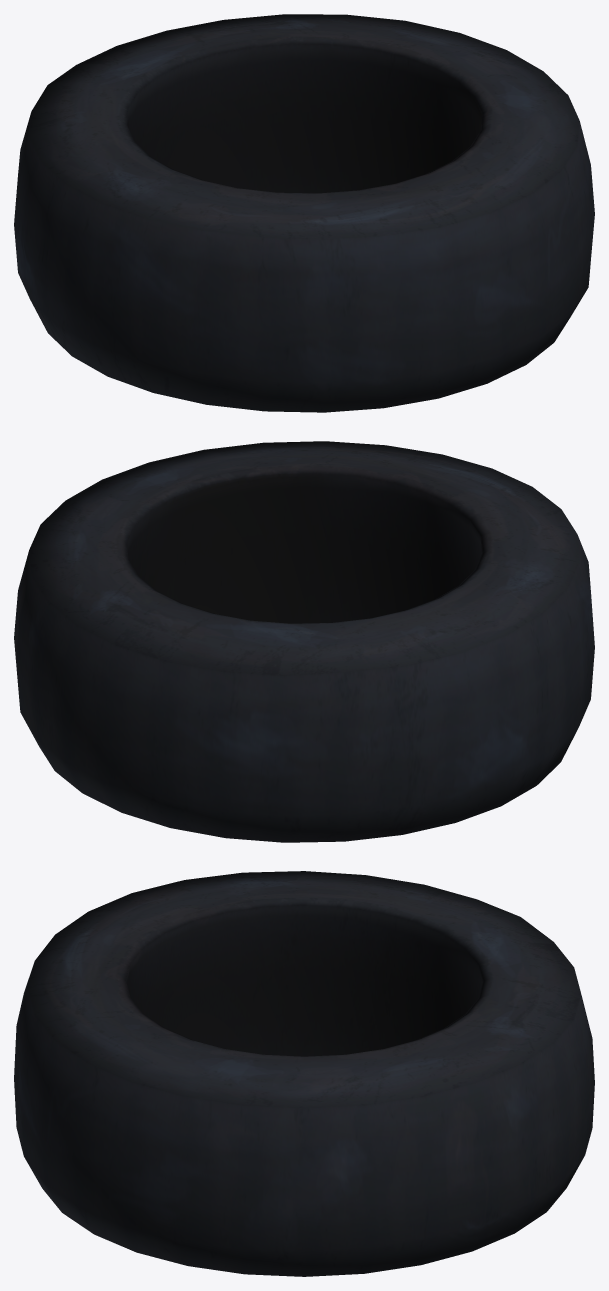
The model's file is tire.fbx.
3 views of the same model, one above another, from view 1: azimuth 30°, elevation 25°; view 2: azimuth 150°, elevation 25°; view 3: azimuth 270°, elevation 25° (orthographic).
Visible parts, largest first — view 1: Neumaticos001_Material #246_0.001; view 2: Neumaticos001_Material #246_0.001; view 3: Neumaticos001_Material #246_0.001.
Boxes of the visible parts, <box> form: Neumaticos001_Material #246_0.001: <box>14,14,594,412</box>; Neumaticos001_Material #246_0.001: <box>14,441,594,842</box>; Neumaticos001_Material #246_0.001: <box>14,871,594,1276</box>.
Bounding box in the file's own units: 17.52 × 6.53 × 17.4.
1 material, 1 textured.
